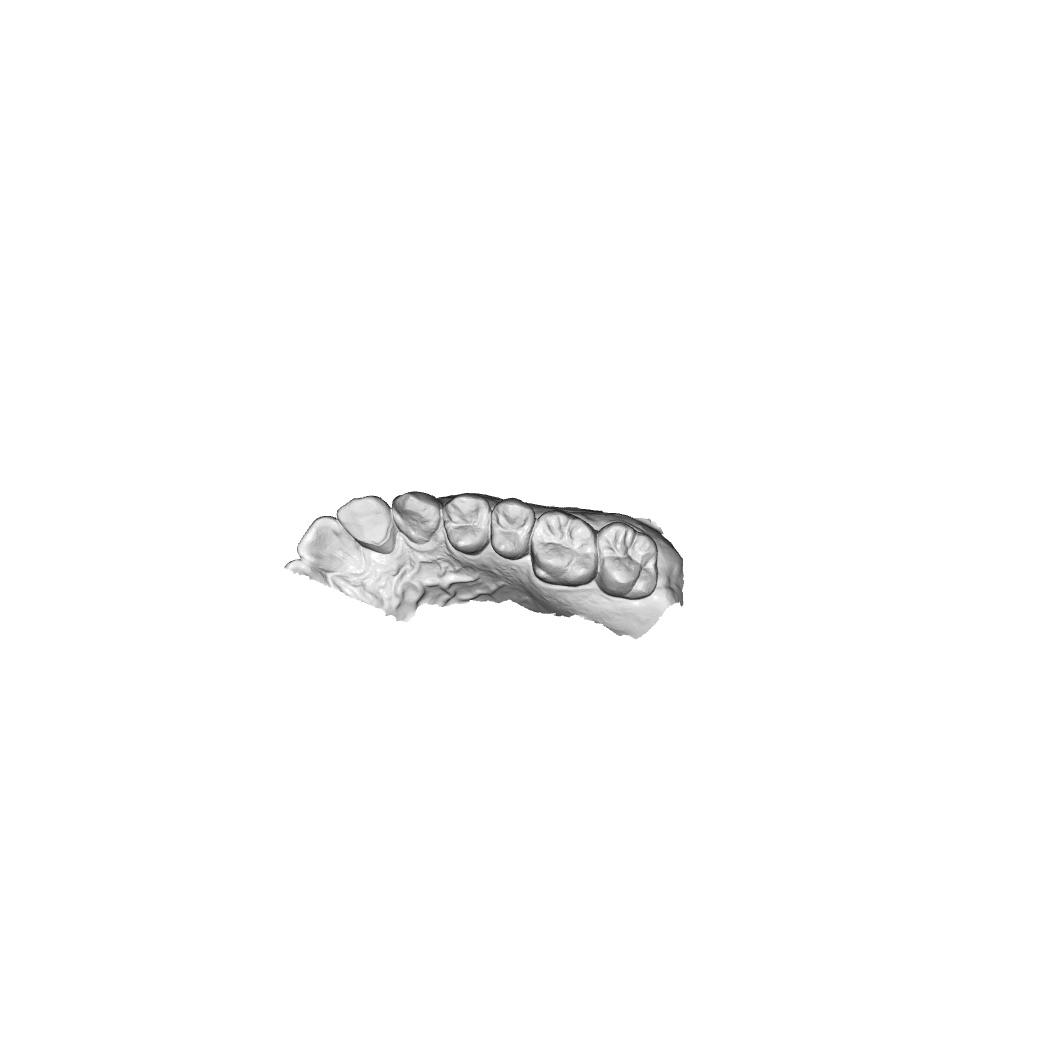canine: (391, 489, 444, 546)
incisor: (295, 515, 363, 575), (335, 495, 396, 555)
molar: (529, 507, 599, 588), (595, 519, 661, 601)
premolar: (434, 493, 495, 560), (490, 497, 537, 561)
